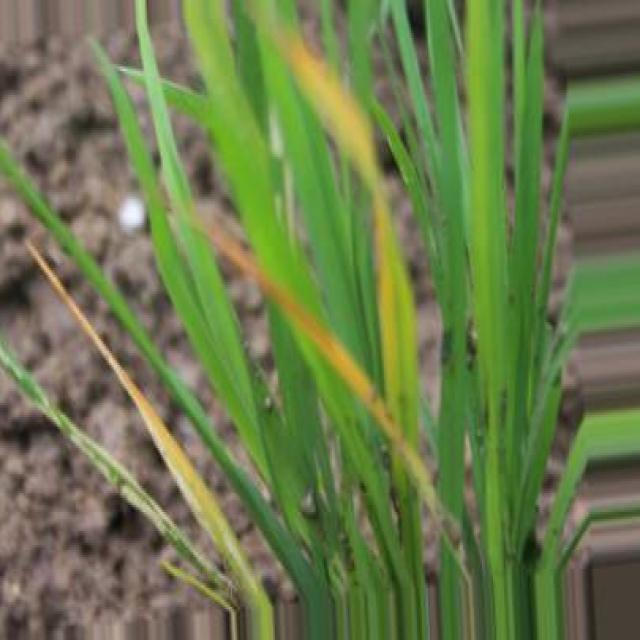Rice Tungro: (31, 244, 274, 638), (252, 262, 439, 513)
